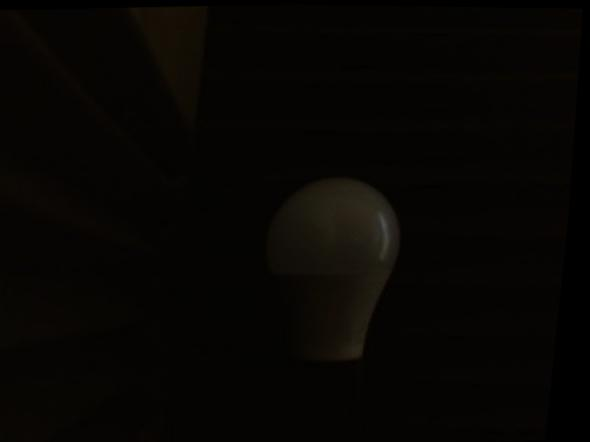Fan: (249, 167, 414, 314)
